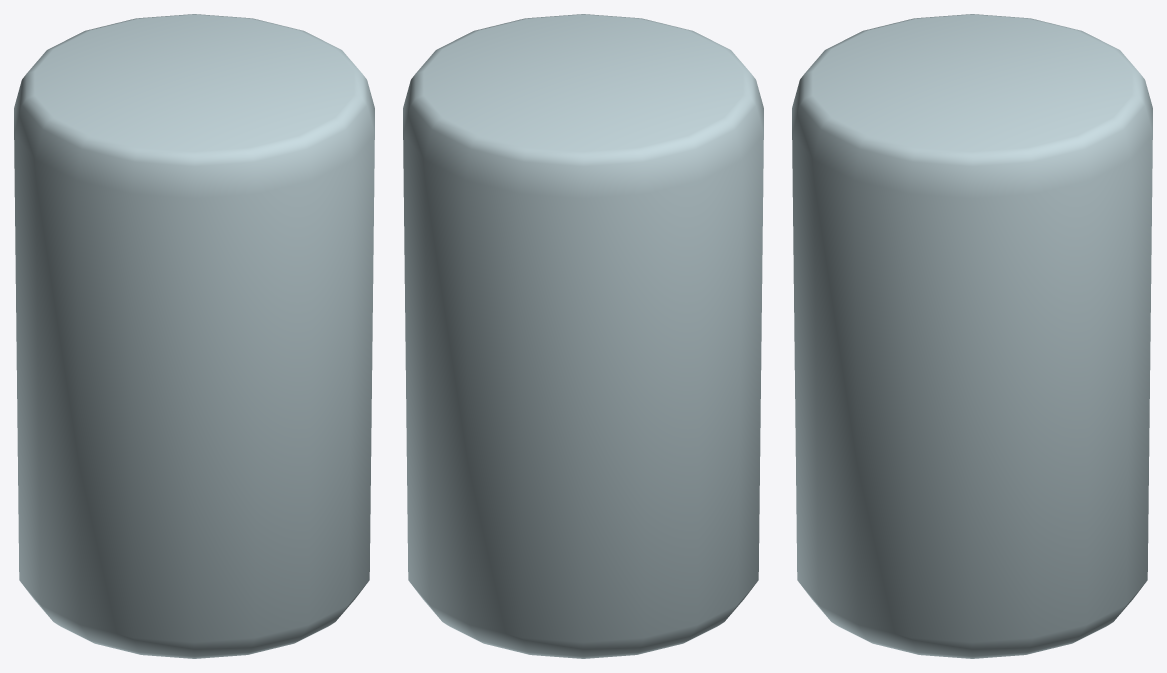
File: glass_tumbler.glb
3 views of the same model, side by side, from view 1: azimuth 30°, elevation 25°; view 2: azimuth 150°, elevation 25°; view 3: azimuth 270°, elevation 25° (orthographic).
Parts seen in each view (by area): view 1: glass_tumbler; view 2: glass_tumbler; view 3: glass_tumbler.
Boxes of the visible parts, <box> form: glass_tumbler: <box>14,14,374,658</box>; glass_tumbler: <box>403,14,763,658</box>; glass_tumbler: <box>792,14,1152,658</box>.
Bounding box in the file's own units: 0.07 × 0.108 × 0.0689.
